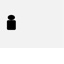human: (4, 12, 18, 31)
